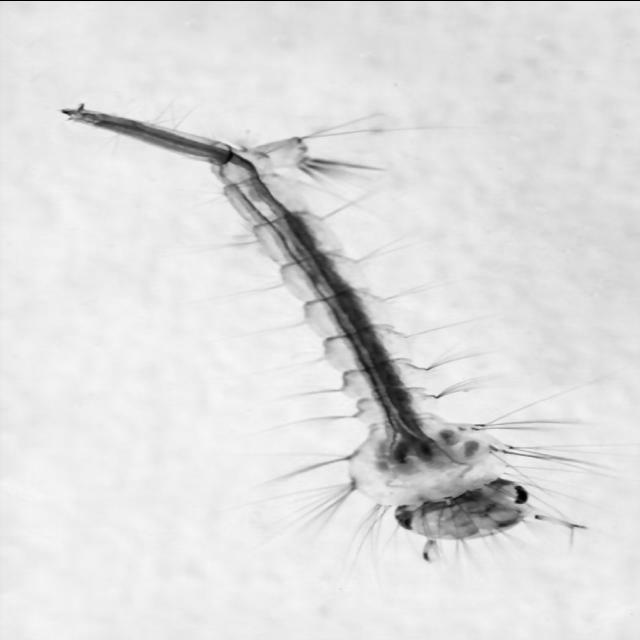larvas: (68, 107, 545, 538)
